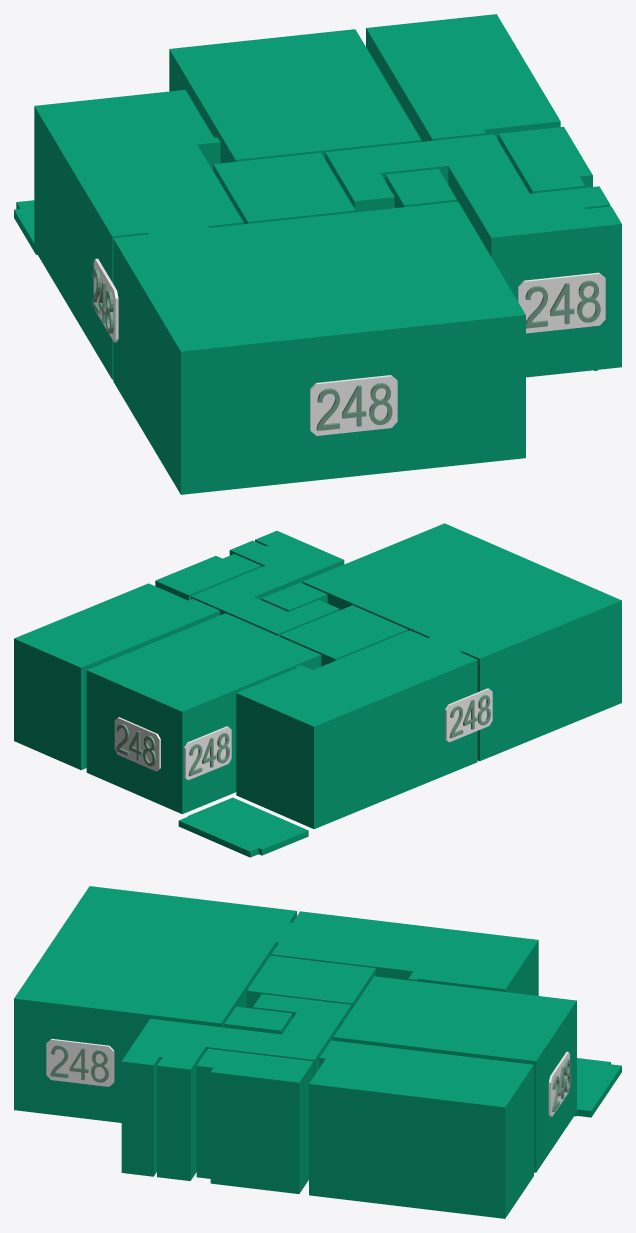
3 renders of one model, top to bottom at view 1: azimuth 30°, elevation 25°; view 2: azimuth 150°, elevation 25°; view 3: azimuth 270°, elevation 25°, orthographic. The views are drawn at different scales.
Parts seen in each view (by area): view 1: g_1, g_0, g_7, g_3, g_4, g_2, g_5, g_16, g_24, g_6, g_20, g_8; view 2: g_1, g_0, g_3, g_4, g_7, g_8, g_2, g_5, g_12, g_20, g_28, g_6; view 3: g_1, g_4, g_3, g_7, g_5, g_0, g_2, g_32, g_8, g_6, g_28.
Boxes of the visible parts, <box> form: g_1: <box>113,201,525,494</box>; g_0: <box>34,89,243,379</box>; g_7: <box>325,134,621,377</box>; g_3: <box>169,29,421,163</box>; g_4: <box>366,14,560,141</box>; g_2: <box>213,152,355,224</box>; g_5: <box>498,126,592,193</box>; g_16: <box>310,375,397,435</box>; g_24: <box>518,272,605,333</box>; g_6: <box>385,168,456,207</box>; g_20: <box>93,258,118,342</box>; g_8: <box>14,200,37,254</box>; g_1: <box>302,523,621,760</box>; g_0: <box>236,630,477,828</box>; g_3: <box>86,613,321,814</box>; g_4: <box>14,583,219,770</box>; g_7: <box>191,531,344,636</box>; g_8: <box>178,797,308,857</box>; g_2: <box>280,605,407,666</box>; g_5: <box>155,554,261,600</box>; g_12: <box>184,726,231,779</box>; g_20: <box>445,688,492,742</box>; g_28: <box>114,717,160,771</box>; g_6: <box>261,582,327,611</box>; g_1: <box>14,886,296,1122</box>; g_4: <box>309,1040,533,1218</box>; g_3: <box>333,976,576,1172</box>; g_7: <box>121,994,351,1180</box>; g_5: <box>196,1048,313,1193</box>; g_0: <box>271,911,538,995</box>; g_2: <box>246,955,375,1009</box>; g_32: <box>46,1039,114,1086</box>; g_8: <box>574,1058,621,1117</box>; g_6: <box>224,1006,292,1034</box>; g_28: <box>548,1051,569,1116</box>.
Bounding box in the file's own units: 10.96 × 2.74 × 12.73.
